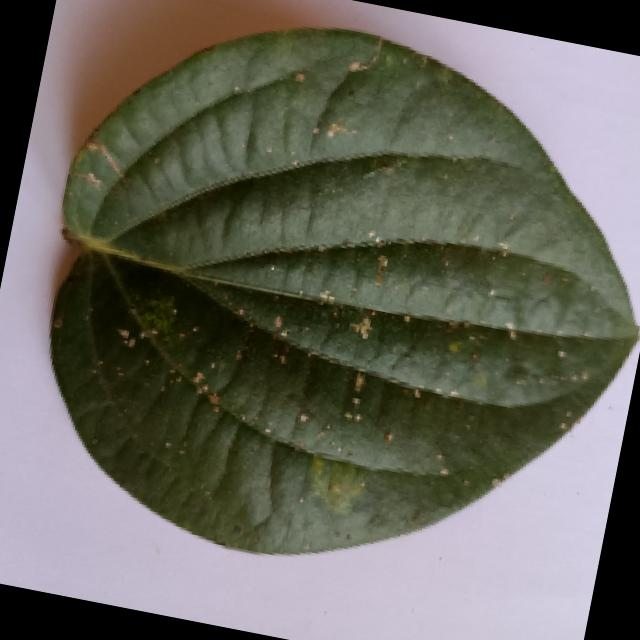pollu-disease: (7, 0, 640, 615)
